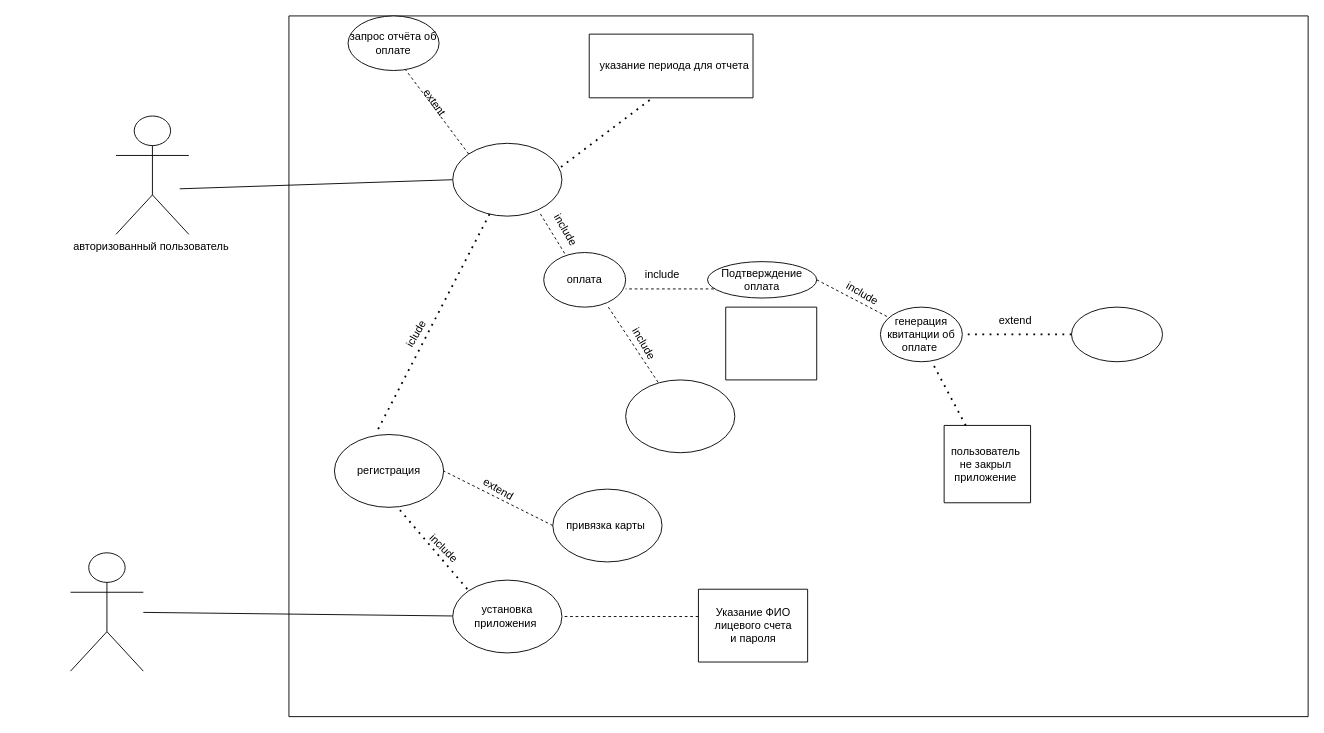
This 1324x733 diagram has some shape labels left out. Each missing label, with the box of its shape:
Ввод данных карты: (625, 379, 735, 453)
Ввод показаний индивидуального прибора учета: (452, 142, 562, 216)
Карта не не привязана к аккаунту: (725, 306, 817, 380)
неавторизированный пользователь: (70, 552, 143, 671)
Скачивание квитанции: (1071, 306, 1163, 362)
